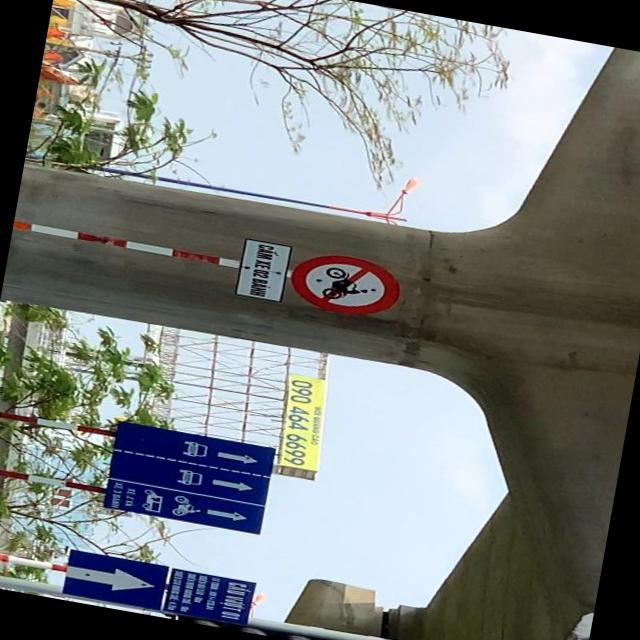I-407a: (61, 548, 168, 612)
P-104: (285, 247, 407, 323)
